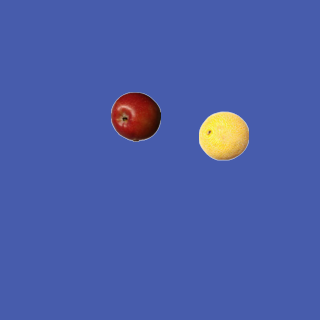Apple Braeburn: (110, 91, 160, 141)
Cantaloupe 1: (198, 110, 248, 160)
